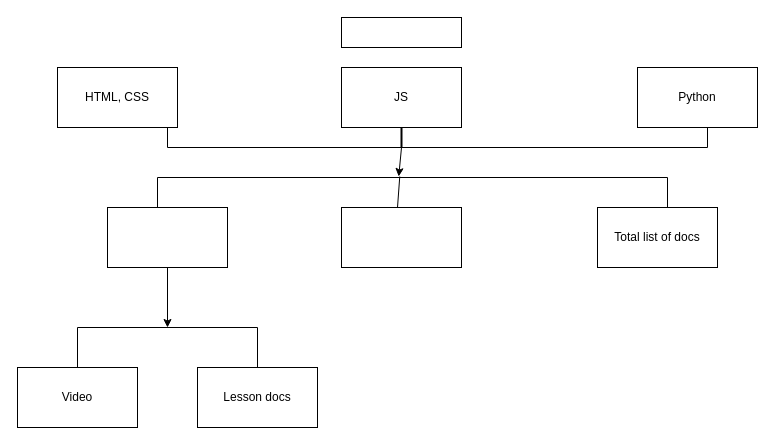
The diagram is 775 pixels wide and 445 high, and some of its shapes have lost their labels. The centre of each missing label's shape, as x and y in pixels:
List of lesson: [167,237]
Start: [401,32]
Useful Links: [401,237]
